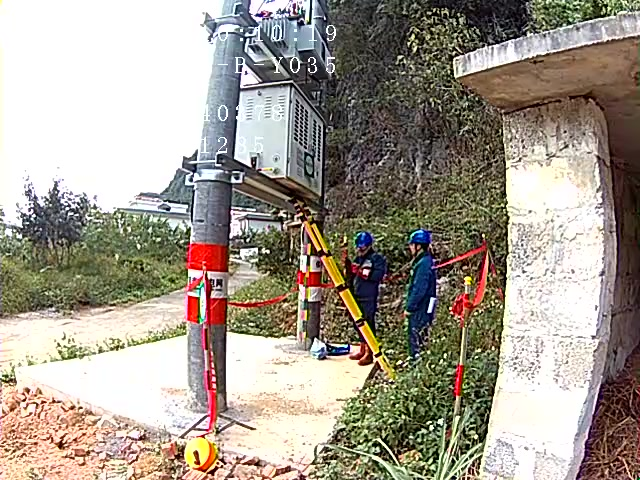downsuit: (351, 294, 375, 340), (408, 314, 432, 360)
halt: (183, 438, 216, 473), (409, 230, 433, 255), (356, 232, 376, 253)
hand: (403, 308, 412, 317)
inear: (414, 242, 423, 252)
longglove: (341, 250, 351, 266)
person: (402, 228, 437, 357), (347, 231, 381, 362)
shoe: (348, 341, 366, 360), (359, 341, 373, 364)
upsuit: (344, 254, 383, 294), (408, 255, 437, 307)
